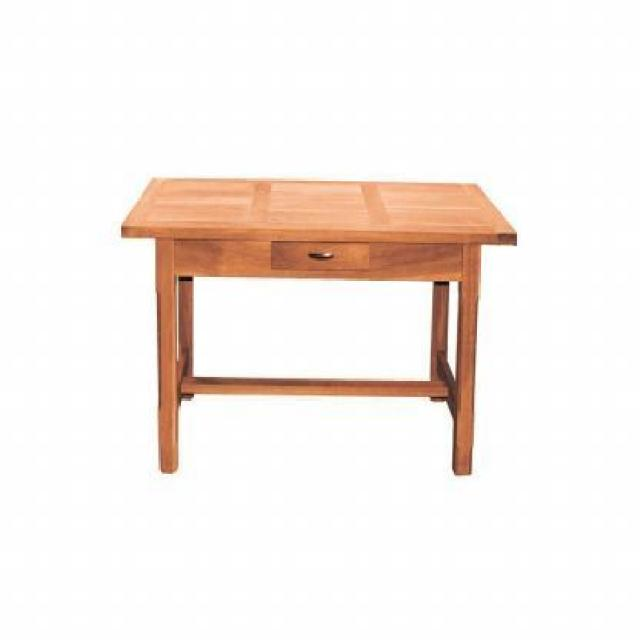tables: (118, 175, 517, 477)
